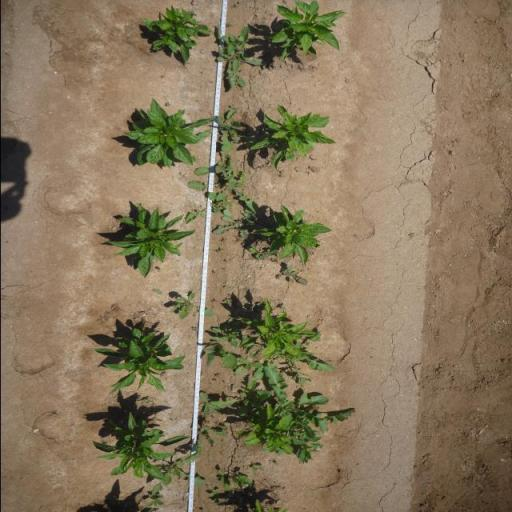plant: (88, 411, 191, 480), (105, 203, 197, 280), (90, 327, 185, 397), (121, 99, 216, 169), (248, 104, 336, 169), (269, 0, 350, 68), (254, 203, 333, 265), (139, 6, 214, 65), (240, 299, 312, 358), (232, 403, 294, 455)
weed: (262, 366, 354, 464), (250, 331, 336, 388), (184, 157, 261, 215), (213, 24, 268, 87), (148, 440, 207, 495), (211, 377, 271, 421), (183, 191, 232, 226), (211, 212, 261, 241), (168, 290, 214, 320), (201, 342, 238, 371), (215, 124, 259, 145), (198, 390, 225, 417), (210, 324, 238, 348), (242, 244, 280, 261), (278, 265, 308, 286), (198, 425, 228, 445), (232, 355, 263, 374), (215, 108, 241, 129), (232, 61, 248, 92), (231, 476, 255, 494), (213, 467, 231, 490), (141, 496, 165, 508), (206, 488, 221, 506), (232, 168, 250, 181), (248, 462, 265, 474), (226, 317, 240, 327), (222, 298, 232, 305), (151, 288, 162, 294), (141, 396, 149, 404), (277, 169, 284, 178), (278, 303, 286, 310), (190, 326, 198, 332), (215, 248, 224, 253), (270, 258, 278, 263), (164, 101, 170, 107), (220, 426, 228, 430), (223, 285, 230, 289)
